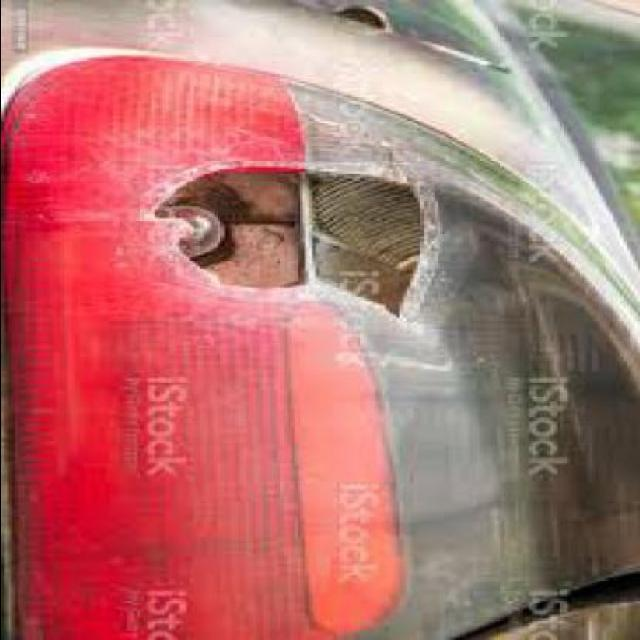Taillight-Damage: (3, 46, 640, 487)
